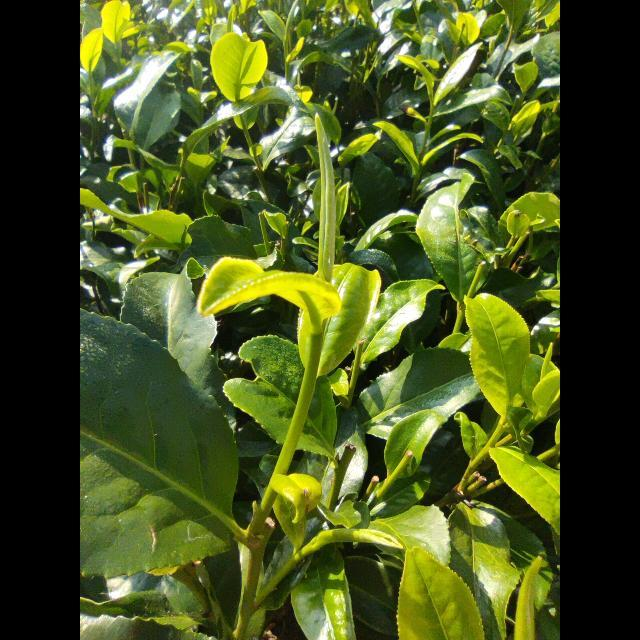Stem: (310, 336, 321, 357)
